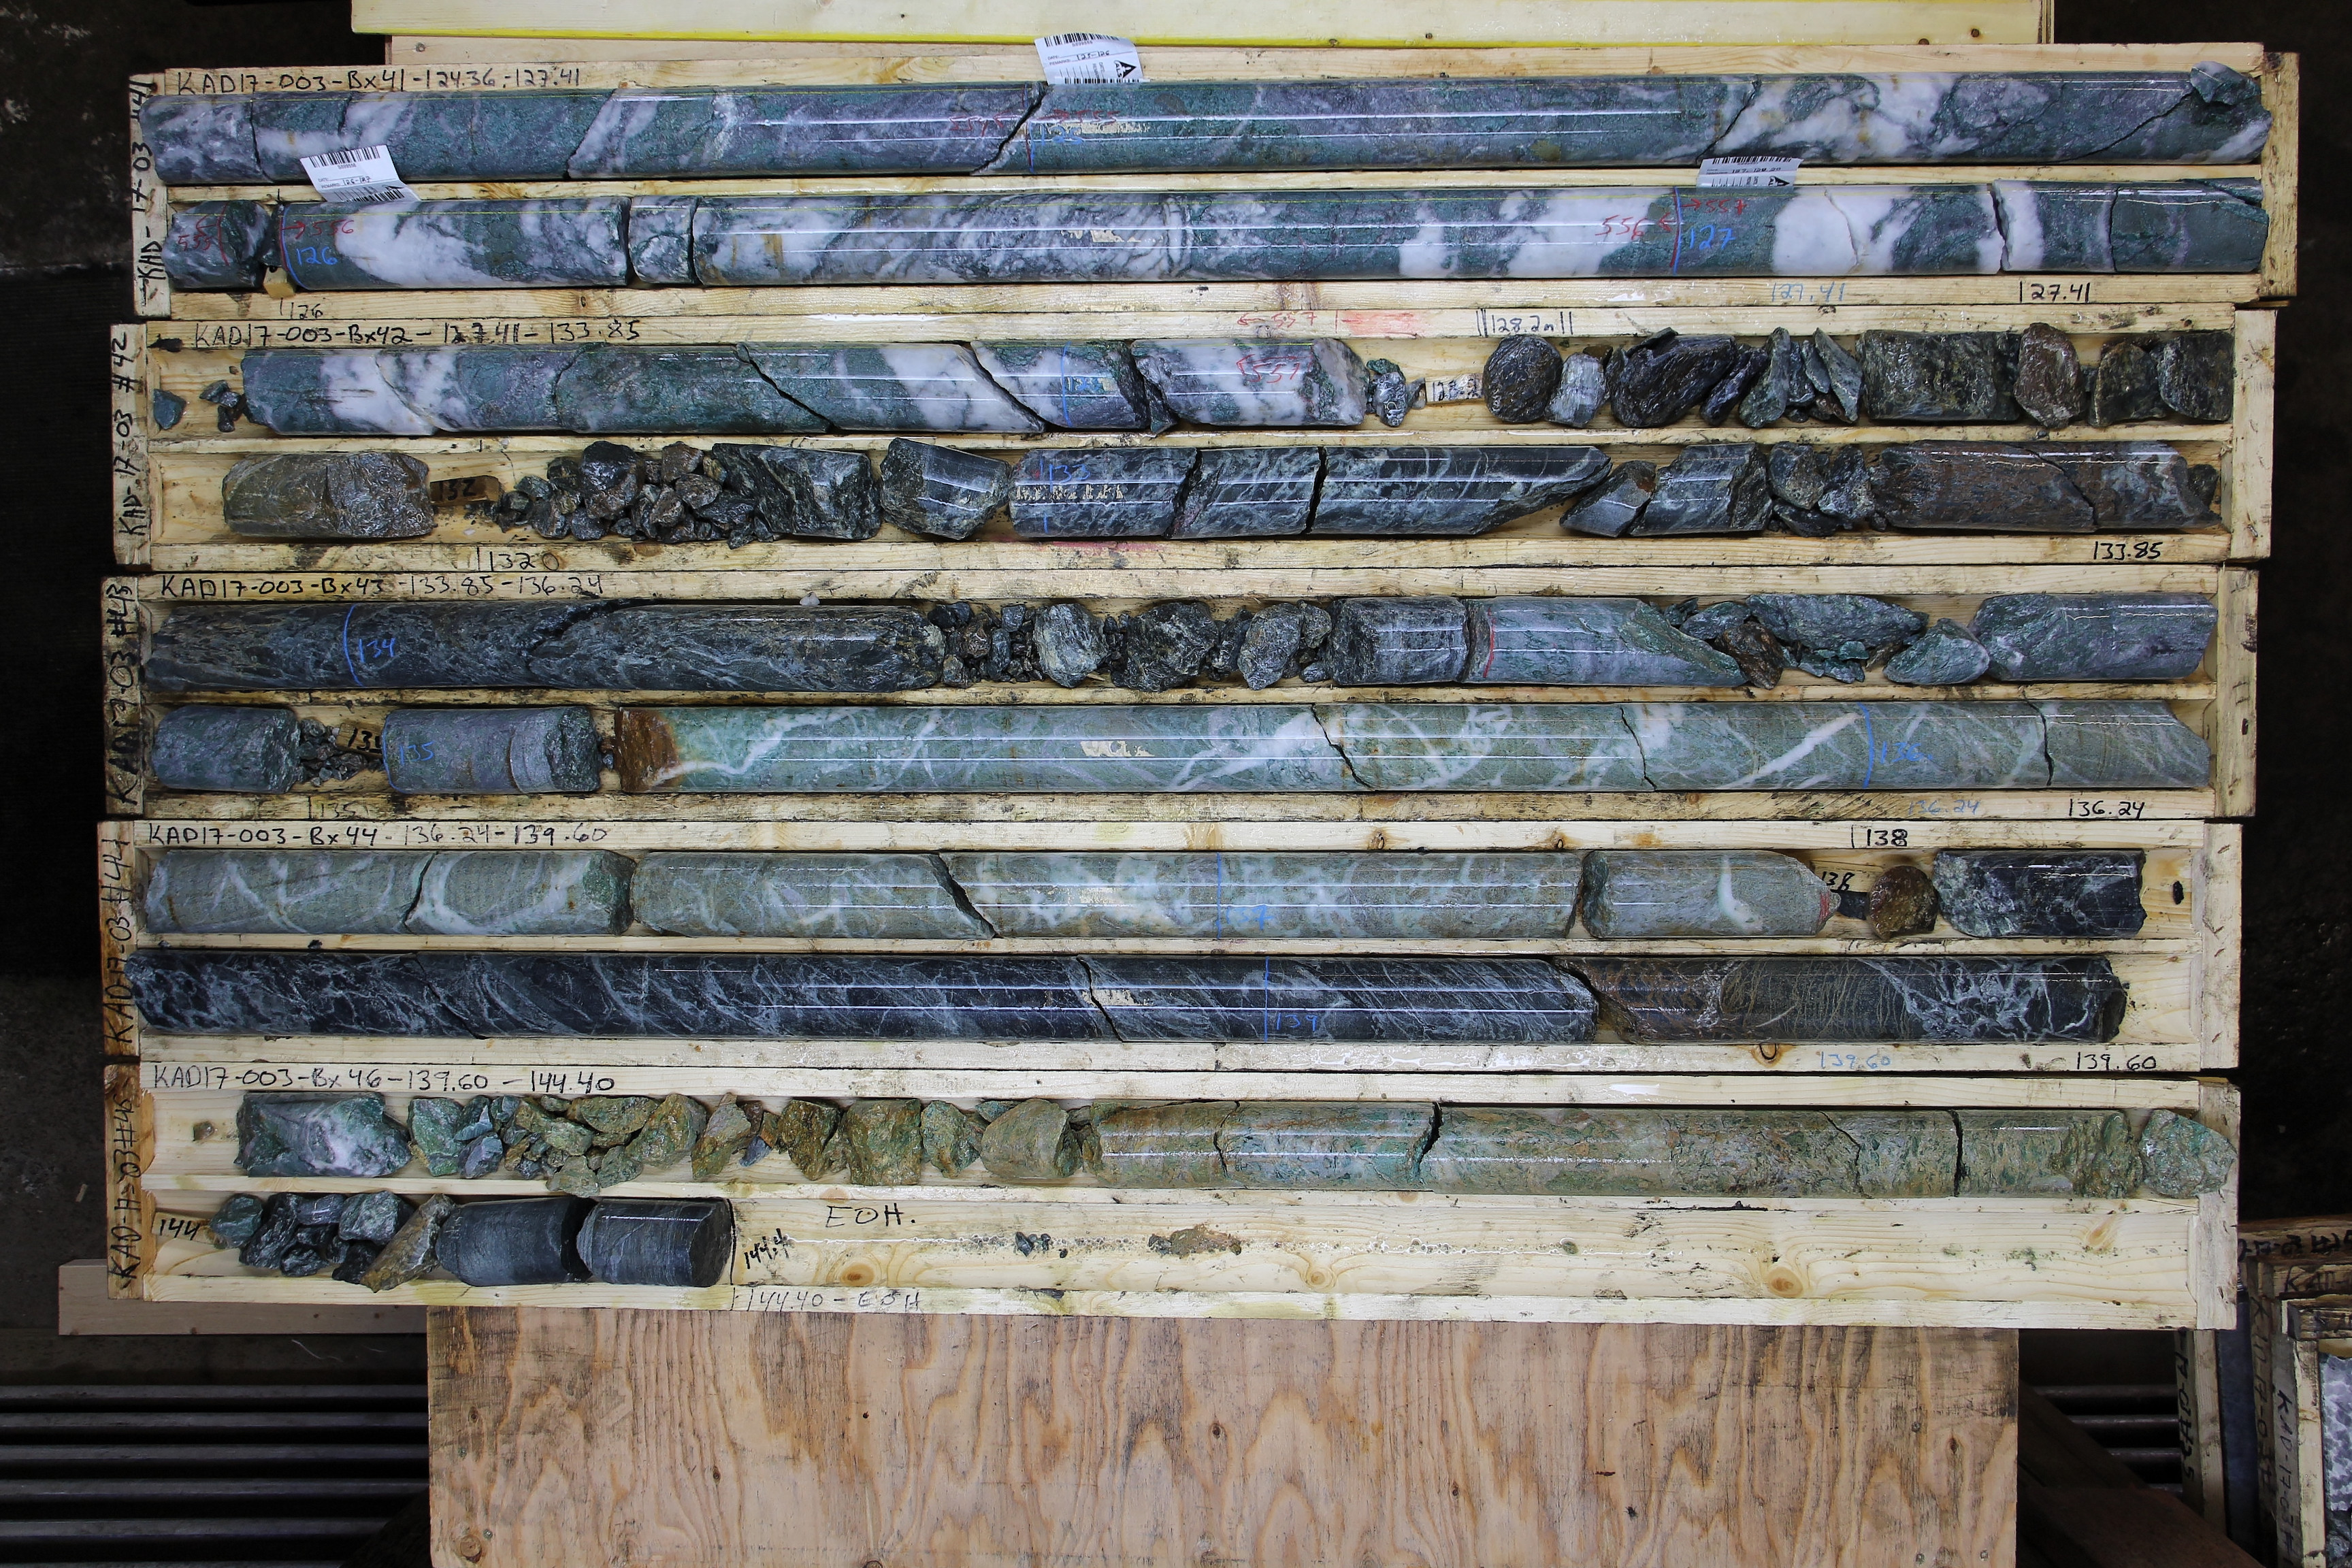rock-KAD17_003-124.36-125: (163, 87, 1031, 187)
rock-KAD17_003-125-125x: (1035, 73, 2260, 178)
rock-KAD17_003-125x-126: (166, 203, 263, 292)
rock-KAD17_003-126-127: (285, 186, 1676, 292)
rock-KAD17_003-127-127x: (1681, 180, 2264, 278)
rock-KAD17_003-127x-128: (245, 343, 1064, 437)
rock-KAD17_003-128-128x: (1067, 344, 1369, 429)
rock-KAD17_003-133-133x: (1045, 449, 2223, 536)
rock-KAD17_003-133x-134: (147, 601, 345, 689)
rock-KAD17_003-134-134x: (348, 600, 2215, 689)
rock-KAD17_003-134x-135: (150, 704, 335, 793)
rock-KAD17_003-135-136: (386, 706, 1869, 790)
rock-KAD17_003-136-136x: (1871, 704, 2209, 789)
rock-KAD17_003-136x-137: (144, 850, 1218, 937)
rock-KAD17_003-137-138: (1222, 851, 1825, 936)
rock-KAD17_003-138-138x: (1875, 849, 2144, 935)
rock-KAD17_003-138x-139: (137, 948, 1270, 1045)
rock-KAD17_003-139-139x: (1271, 955, 2126, 1043)
rock-KAD17_003-139x-140: (240, 1086, 1274, 1188)
rock-KAD17_003-140-144: (1279, 1107, 2196, 1197)
rock-KAD17_003-144-144.40: (223, 1190, 731, 1282)
